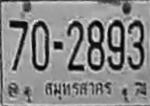0: (31, 20, 49, 70)
2: (66, 20, 86, 71)
3: (127, 19, 144, 69)
7: (9, 20, 27, 68)
8: (87, 20, 104, 70)
9: (106, 19, 124, 69)
SKN: (41, 76, 116, 103)
